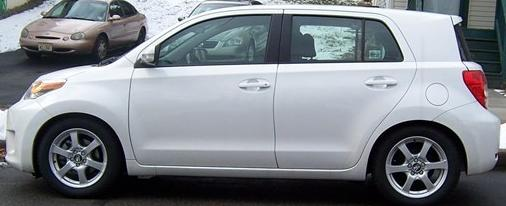backlight: (459, 68, 501, 113)
headlight: (17, 71, 71, 105)
side_glass: (154, 15, 374, 80)
